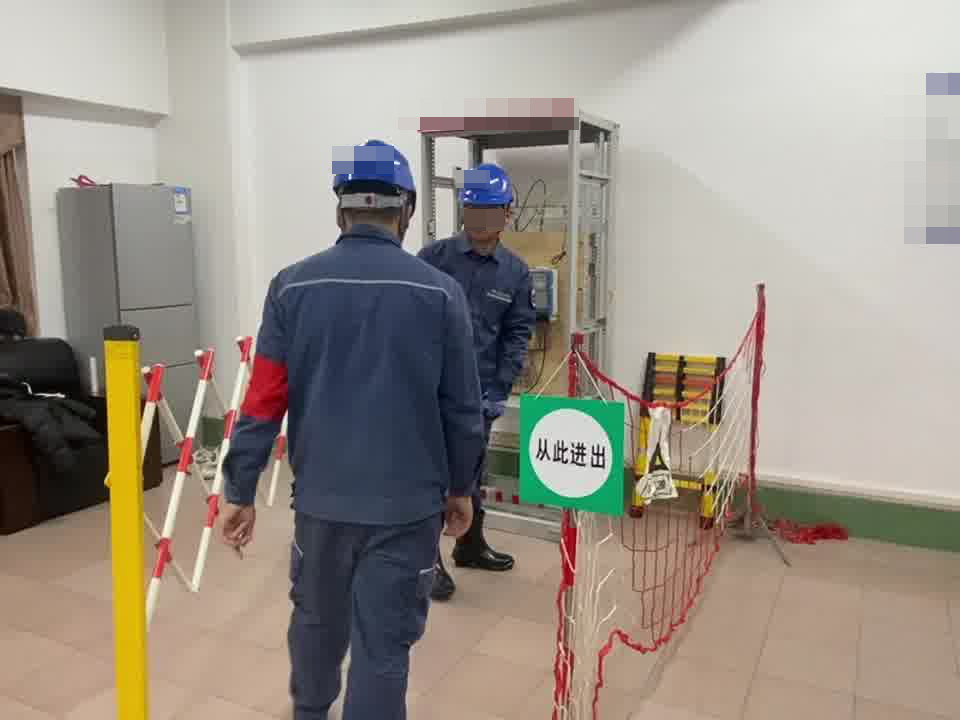badge: (240, 357, 292, 422)
downsuit: (281, 531, 438, 720)
halt: (328, 139, 420, 242), (457, 162, 519, 247)
hand: (222, 496, 257, 561), (444, 487, 475, 540)
intosign: (516, 387, 632, 519)
person: (225, 136, 483, 720), (416, 160, 539, 602)
shoe: (454, 506, 517, 574)
sleeve: (526, 285, 537, 312)
upsuit: (224, 237, 481, 521), (427, 238, 534, 429)
